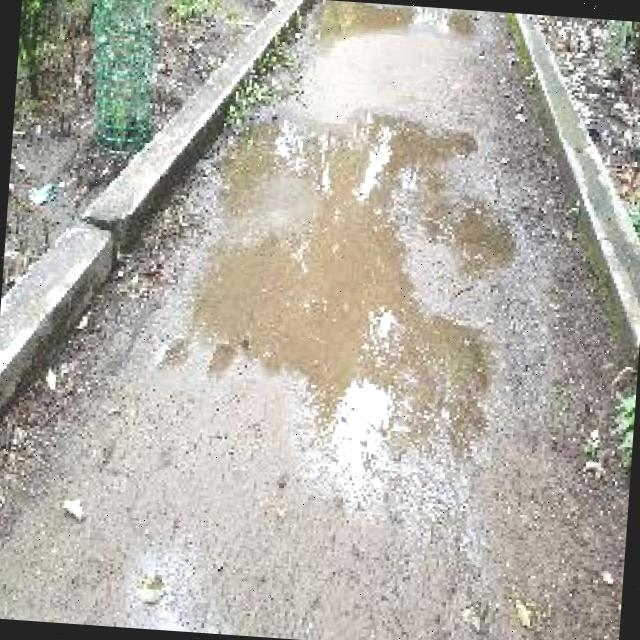stagnation: (258, 88, 524, 468)
